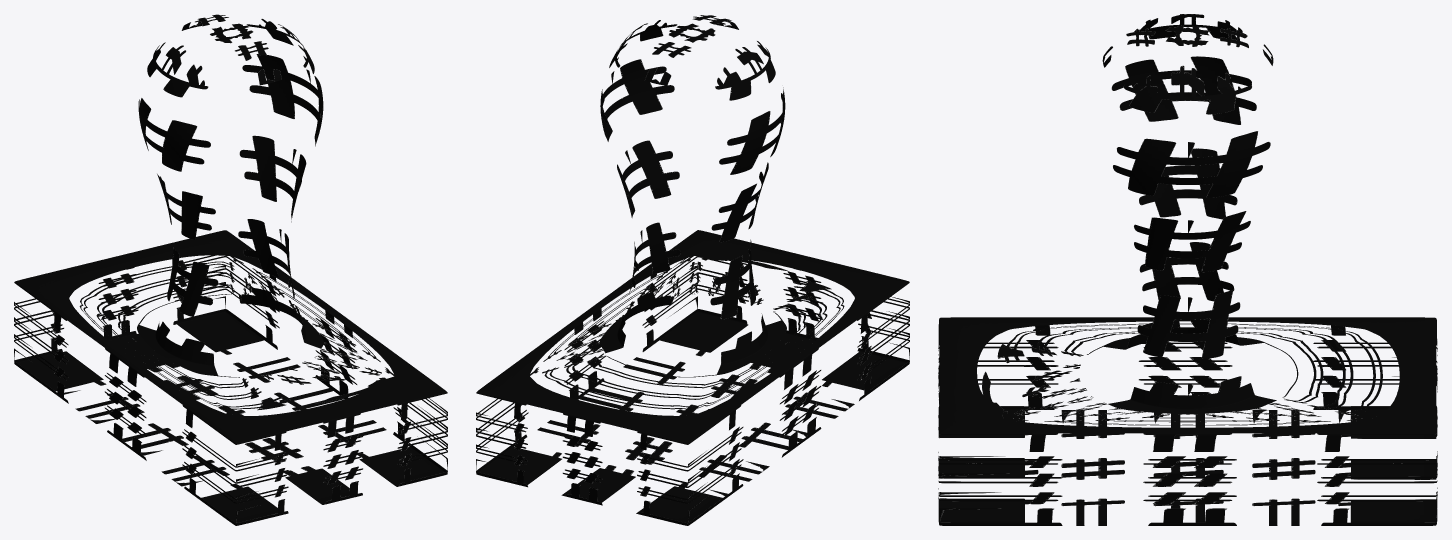
File: StampNumbersPrefab.fbx
The picture shows the model from 3 angles, left to right: view 1: azimuth 30°, elevation 25°; view 2: azimuth 150°, elevation 25°; view 3: azimuth 270°, elevation 25°; orthographic projection. The views are drawn at different scales.
Visible parts, largest first — view 1: stamp2; view 2: stamp2; view 3: stamp2.
Boxes of the visible parts, left/top/right/bottom form: stamp2: left=14, top=14, right=447, bottom=525; stamp2: left=476, top=15, right=909, bottom=525; stamp2: left=938, top=14, right=1437, bottom=525.
Bounding box in the file's own units: 155 × 269 × 281.
Materials: 1 (1 with a texture image).
